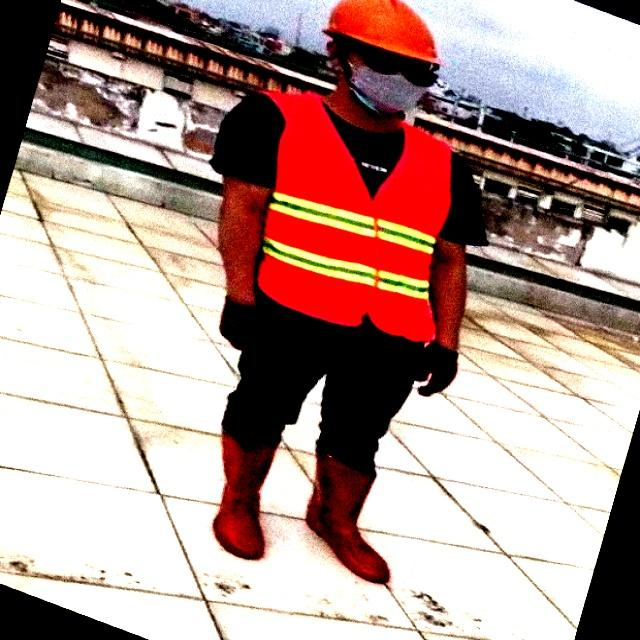helmet: (316, 14, 461, 64)
safety_vest: (247, 72, 467, 345)
